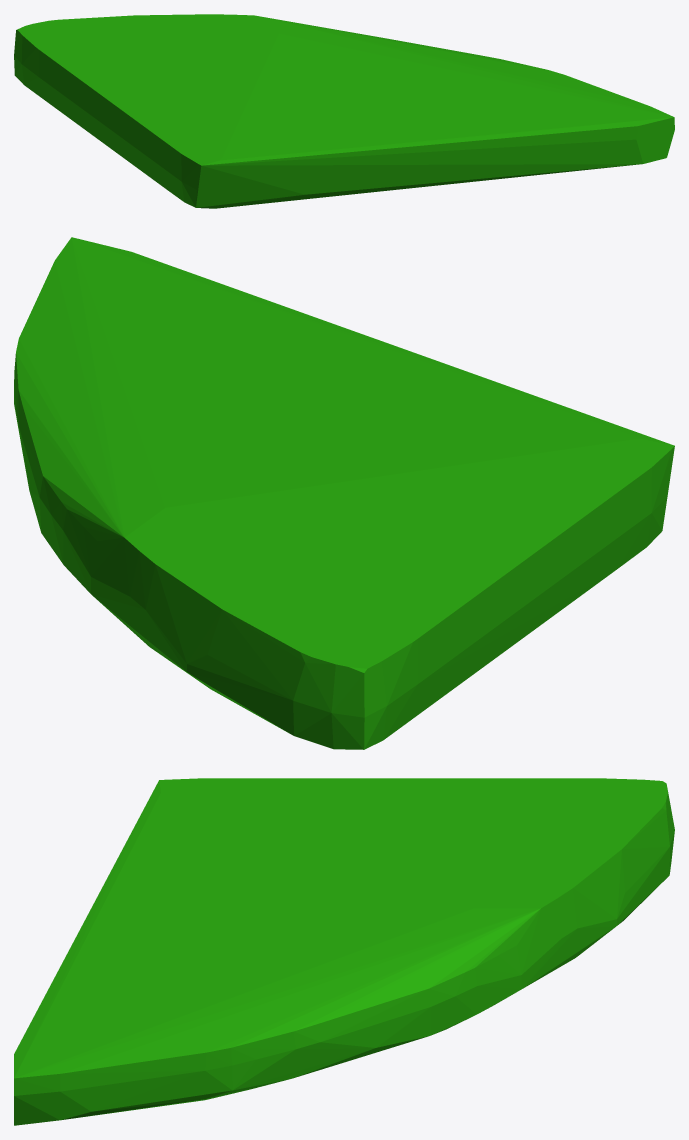
The model's file is right-shoulder-pitch-0_part_110.obj.
The picture shows the model from 3 angles, top to bottom: view 1: azimuth 30°, elevation 25°; view 2: azimuth 150°, elevation 25°; view 3: azimuth 270°, elevation 25°; orthographic projection. The views are drawn at different scales.
Bounding box in the file's own units: 0.0278 × 0.00406 × 0.0277.
